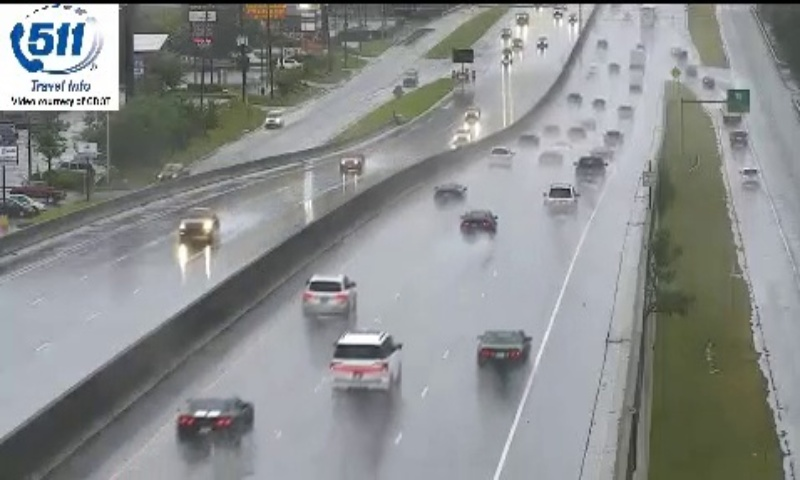car: (333, 331, 401, 388), (178, 396, 254, 440), (477, 329, 530, 369), (304, 274, 354, 314), (460, 210, 497, 236), (543, 186, 575, 215)
